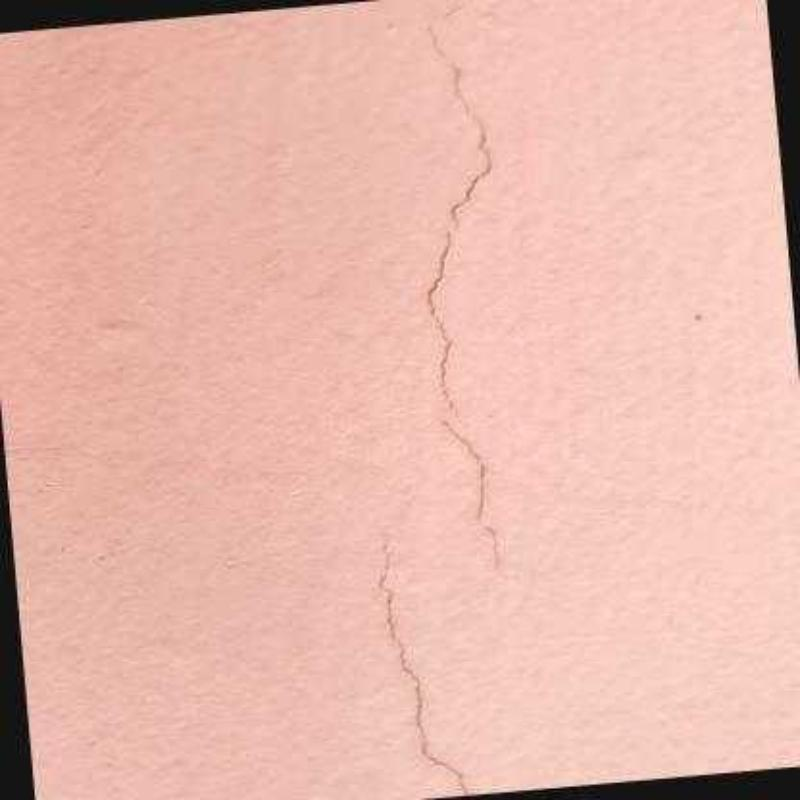crack: (414, 126, 502, 565), (370, 539, 476, 797), (427, 25, 485, 131), (446, 4, 463, 15)
